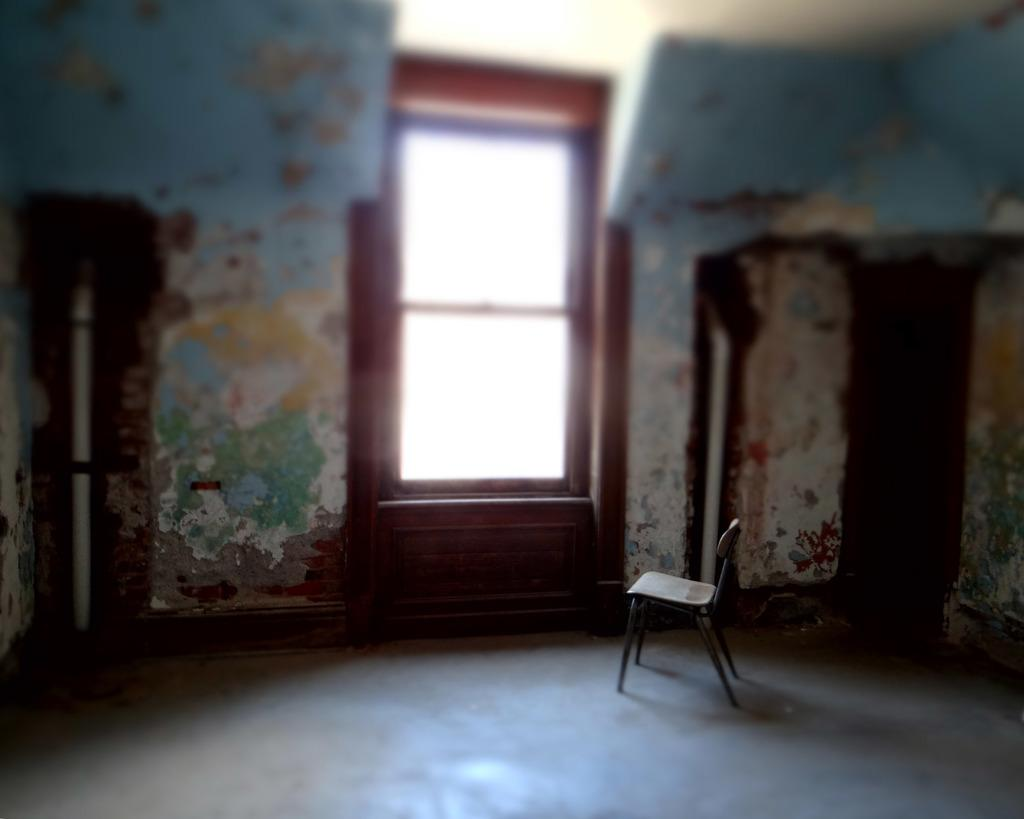Chair: (618, 515, 764, 715)
